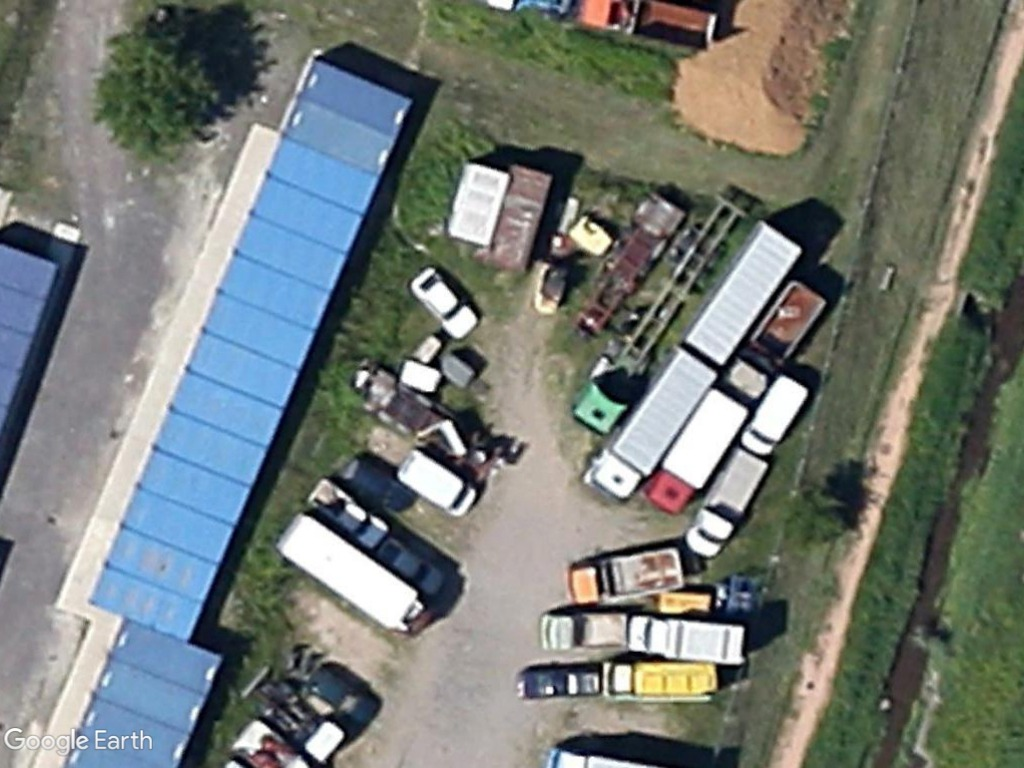car: (404, 267, 483, 341)
others: (689, 436, 773, 563), (570, 544, 689, 610)
truck: (587, 337, 727, 503), (642, 386, 757, 517)
van: (739, 358, 815, 466), (387, 449, 484, 523)
